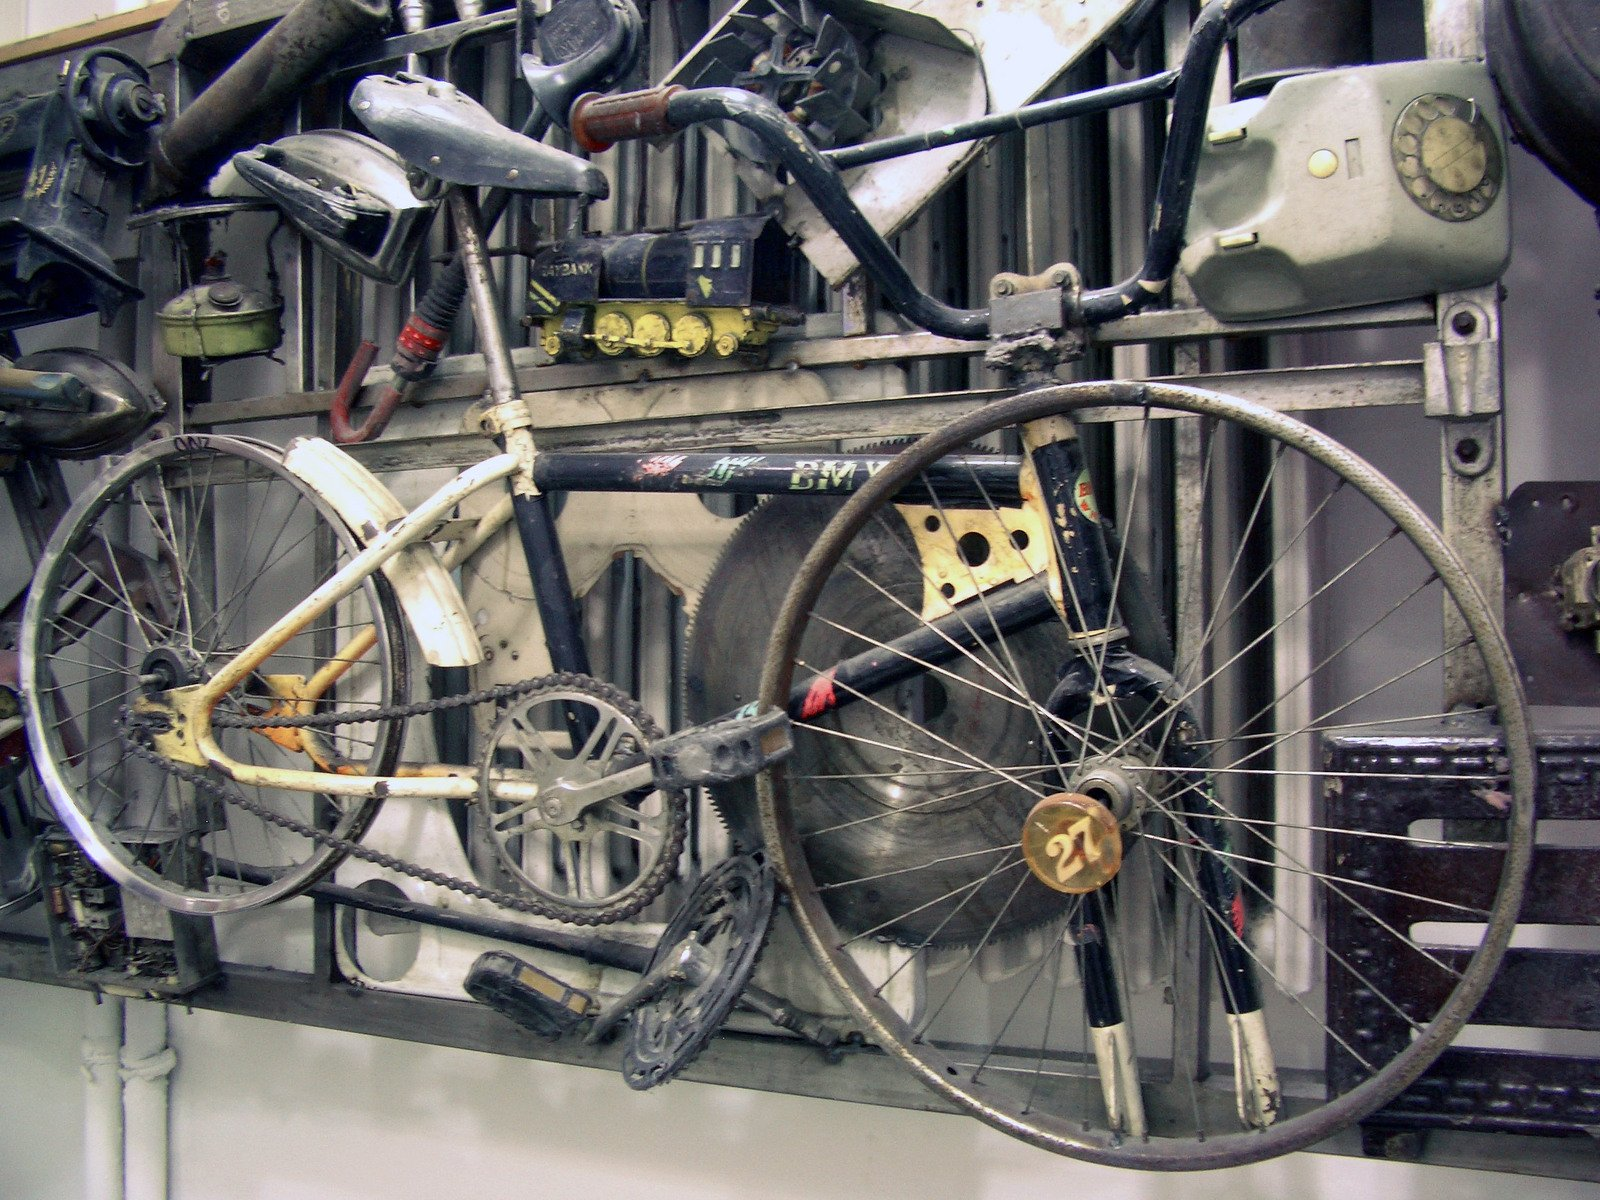Bicycle: (39, 66, 1556, 1189)
